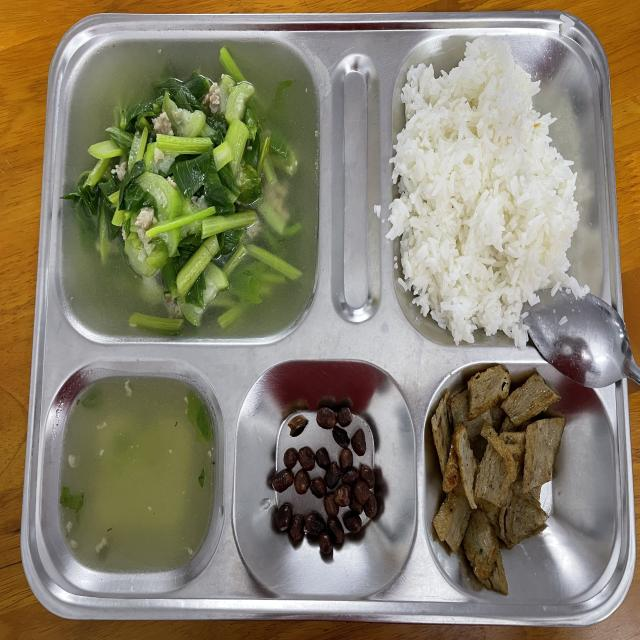canh cai: (55, 32, 321, 351), (60, 377, 222, 571)
com: (386, 40, 589, 346)
